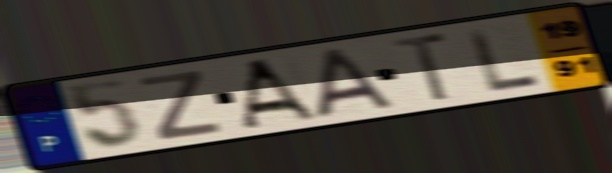5: (60, 76, 149, 151)
A: (239, 55, 323, 131), (314, 45, 397, 121)
L: (463, 25, 544, 95)
T: (390, 30, 454, 105)
Z: (135, 67, 225, 143)
